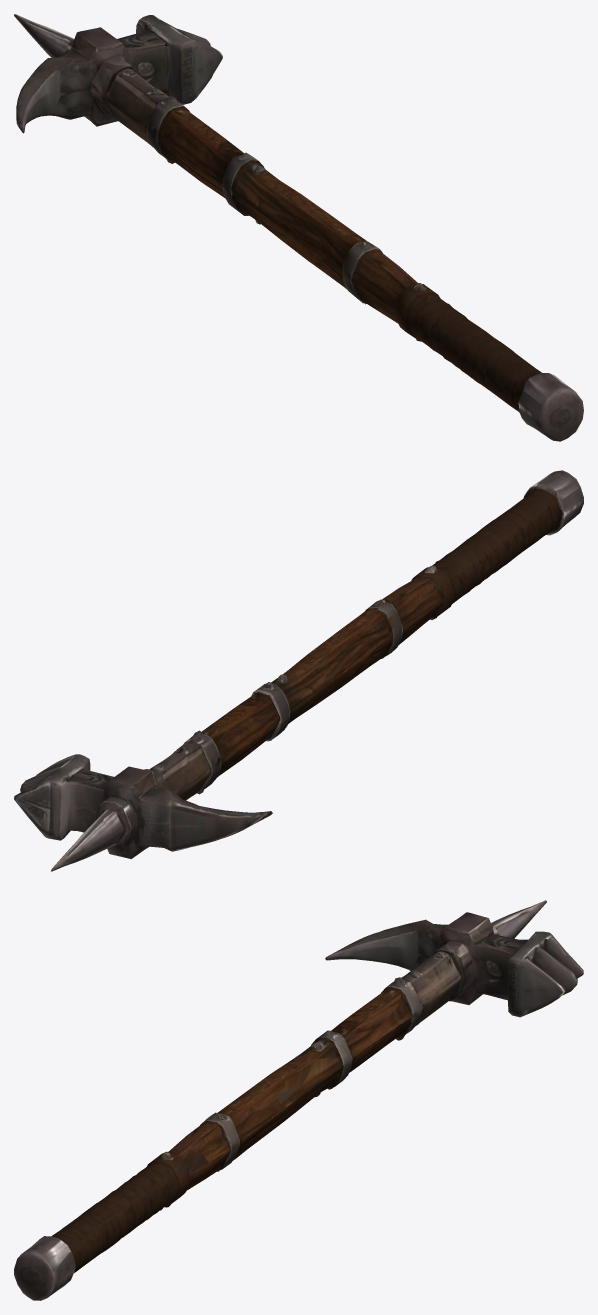
File: lucerne.glb
3 renders of one model, top to bottom at view 1: azimuth 30°, elevation 25°; view 2: azimuth 150°, elevation 25°; view 3: azimuth 330°, elevation 25°, orthographic. The views are drawn at different scales.
Parts seen in each view (by area): view 1: world; view 2: world; view 3: world.
Boxes of the visible parts, x1,y1,x2,y2 form: world: (14,14,583,441); world: (14,470,583,871); world: (14,900,583,1300).
Bounding box in the file's own units: 0.4935 × 0.1625 × 2.05.
Materials: 1 (1 with a texture image).
